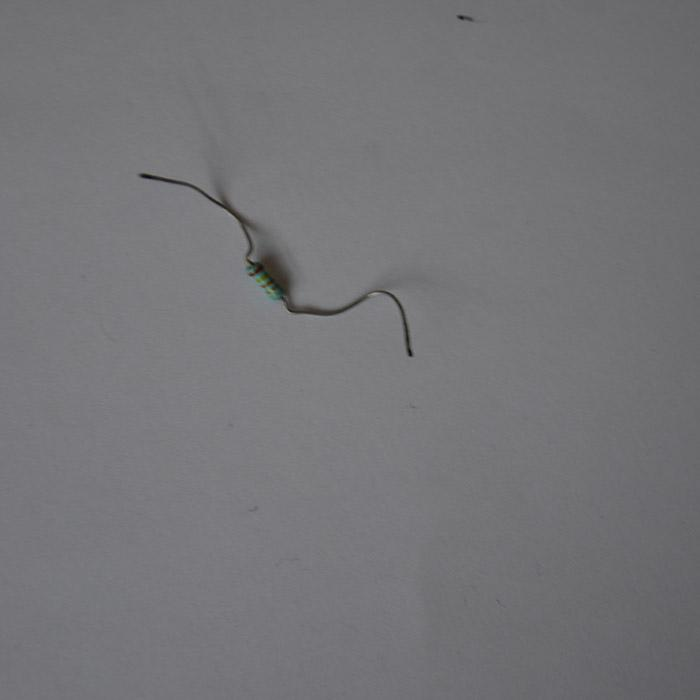resistor: (243, 261, 287, 303)
